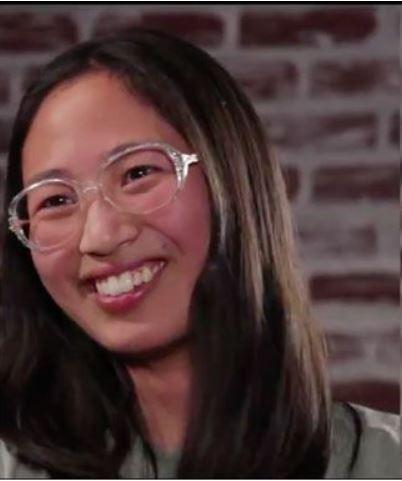Drunk: (21, 98, 211, 339)
